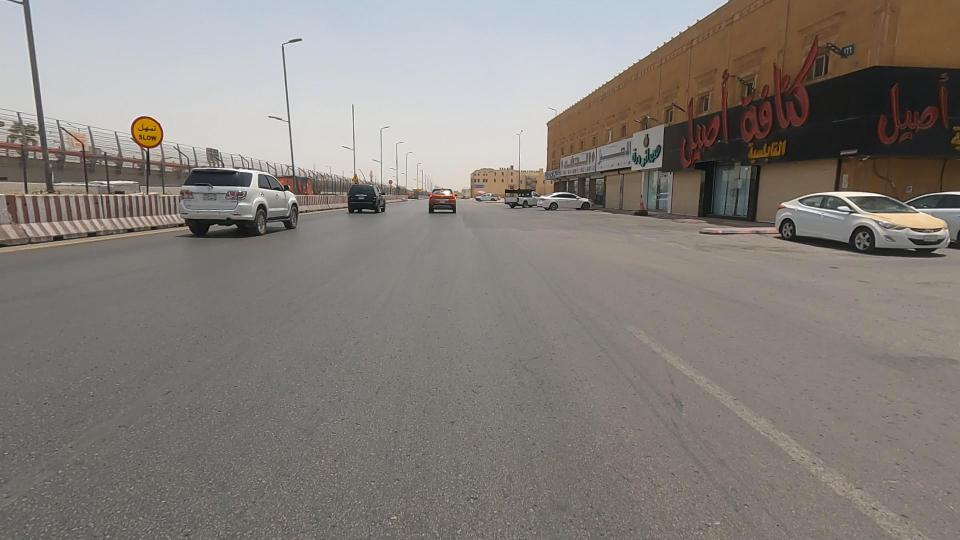CONSTRUCTION_ROAD: (0, 61, 224, 276), (254, 137, 370, 223)
